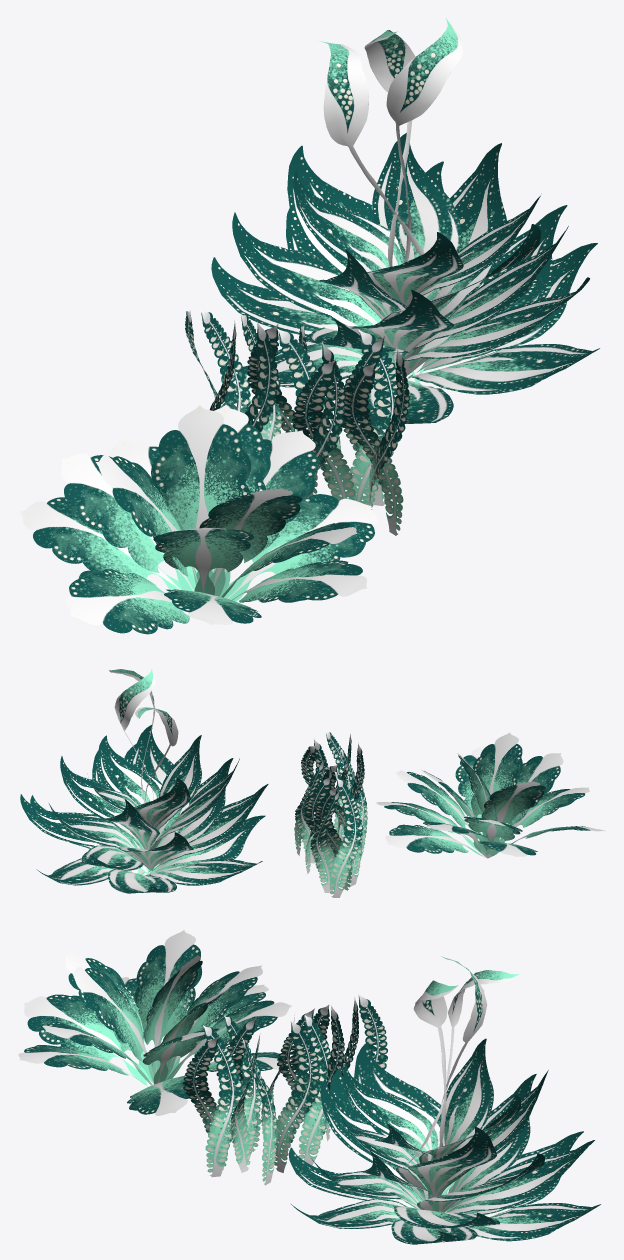
The model's file is Three-Plant-alien-illustradas.fbx.
The picture shows the model from 3 angles, top to bottom: view 1: azimuth 30°, elevation 25°; view 2: azimuth 150°, elevation 25°; view 3: azimuth 270°, elevation 25°; orthographic projection. The views are drawn at different scales.
Parts seen in each view (by area): view 1: Plant-1, Plant-3, Plant-2; view 2: Plant-1, Plant-3, Plant-2; view 3: Plant-1, Plant-3, Plant-2.
Part boxes in pixels (left/top/right/bottom): Plant-1: left=211, top=17, right=599, bottom=423; Plant-3: left=20, top=404, right=377, bottom=634; Plant-2: left=185, top=310, right=409, bottom=539; Plant-1: left=20, top=668, right=268, bottom=893; Plant-3: left=375, top=732, right=605, bottom=858; Plant-2: left=294, top=732, right=367, bottom=897; Plant-1: left=288, top=956, right=600, bottom=1244; Plant-3: left=18, top=930, right=292, bottom=1115; Plant-2: left=183, top=994, right=387, bottom=1185.
Bounding box in the file's own units: 5415 × 2506 × 4824.
